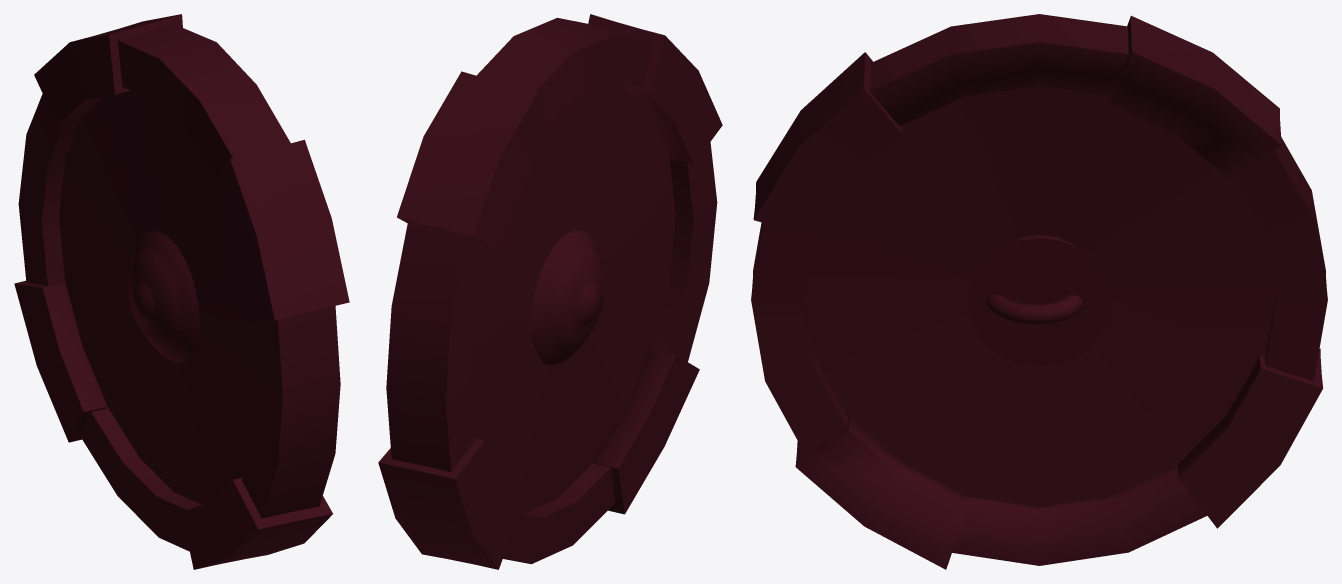
Rendered from shield (2).fbx.
3 views of the same model, side by side, from view 1: azimuth 30°, elevation 25°; view 2: azimuth 150°, elevation 25°; view 3: azimuth 270°, elevation 25° (orthographic). The views are drawn at different scales.
Visible parts, largest first — view 1: shield.001; view 2: shield.001; view 3: shield.001.
Part boxes in pixels (x1,y1,x2,y2): shield.001: (14,14,349,569); shield.001: (378,14,722,569); shield.001: (751,14,1327,569).
Bounding box in the file's own units: 40.09 × 180 × 180.
